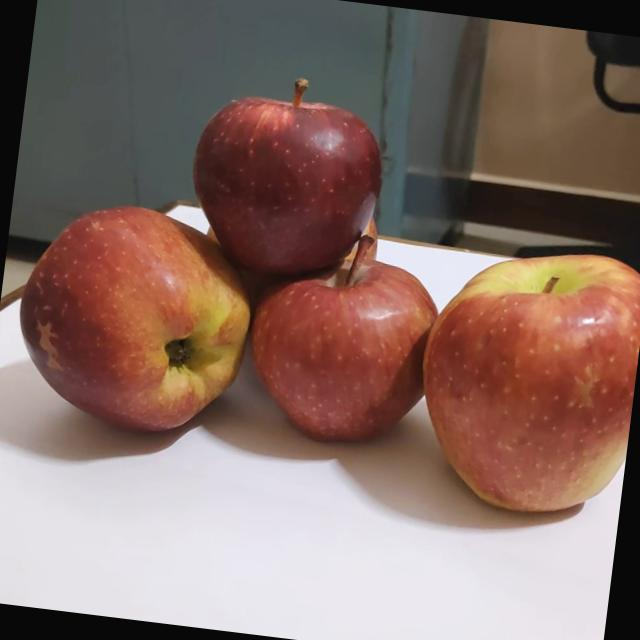apple: (400, 233, 640, 537), (4, 192, 272, 451), (175, 63, 398, 295), (234, 221, 445, 460), (194, 220, 229, 256)
